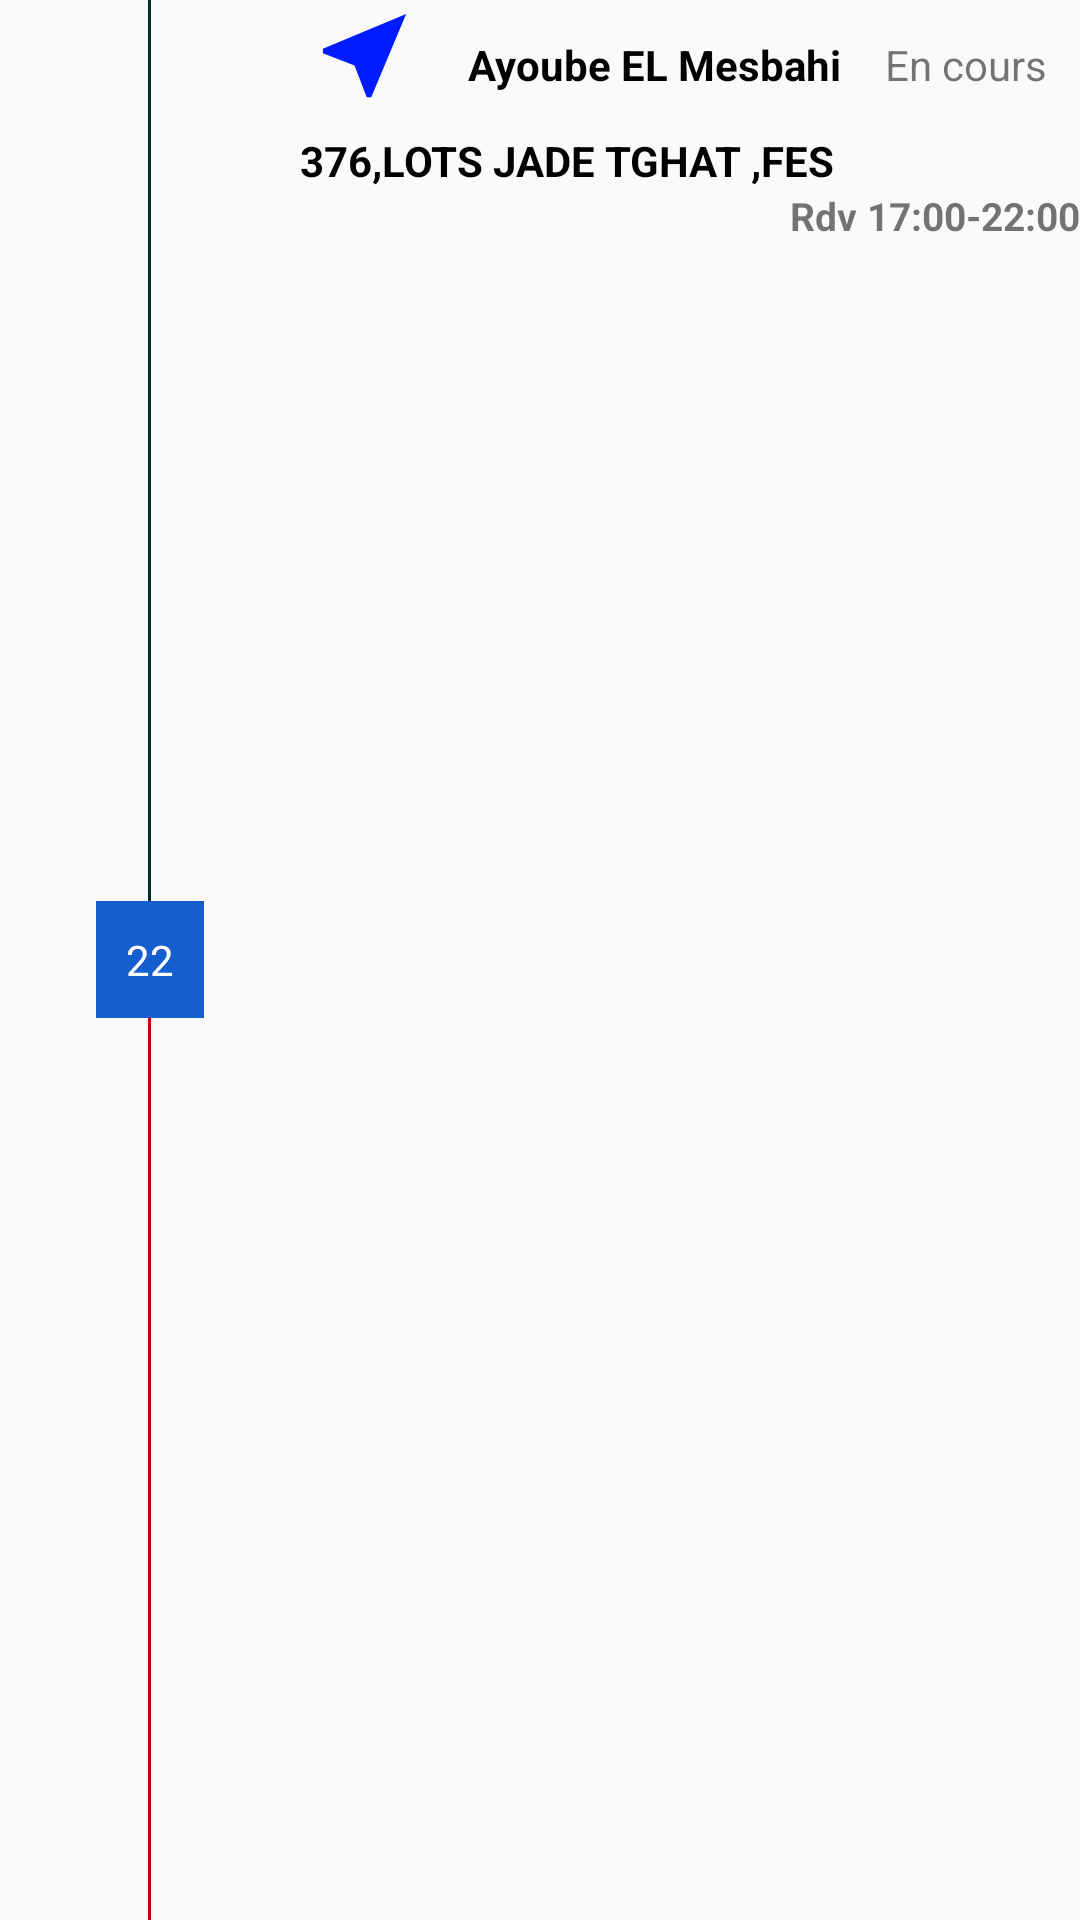

Screen size 1080×1920. Icon name, then its center in pixels as (x=x, y=y):
near me: (x=364, y=56)
